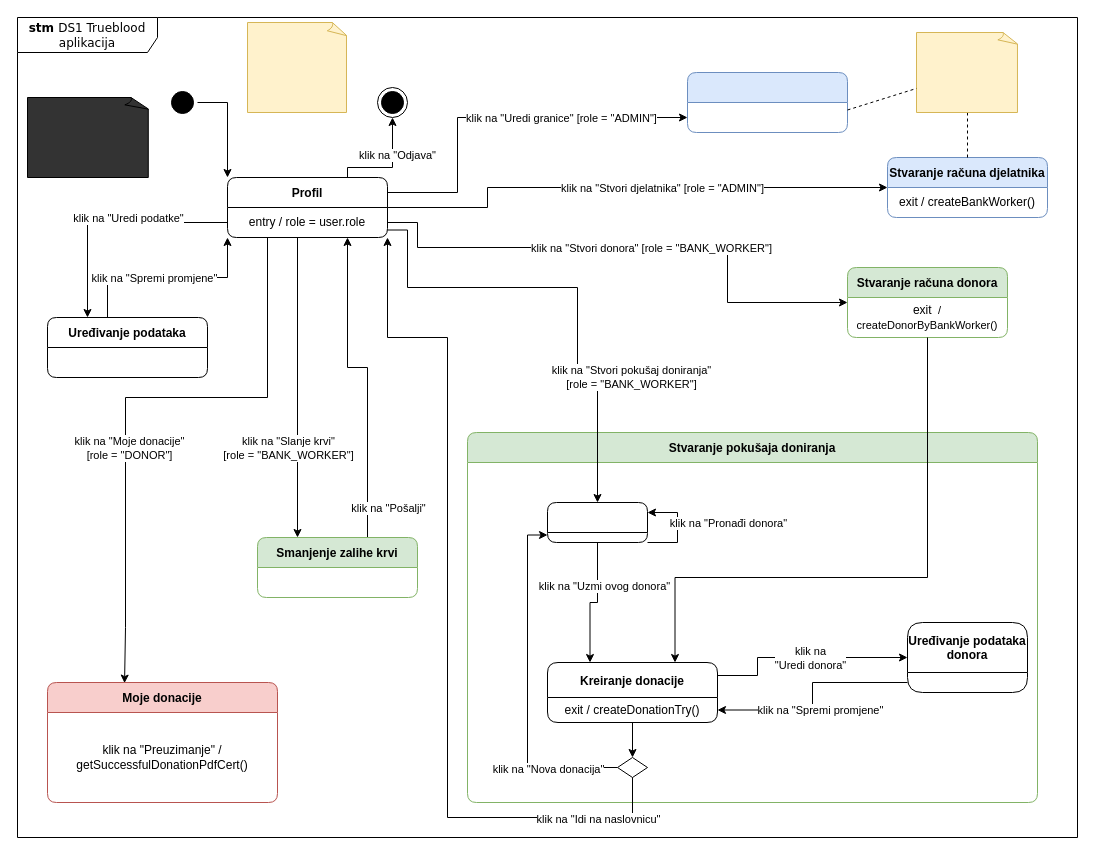
The diagram is 1095 pixels wide and 855 high, and some of its shapes have lost their labels. Each missing label, with the centre of its shape:
boje stanja: administrator djelatnik banke donor svi: [88,137]
gumbi "Profil", "Odjava", "FAQ" i "Kontakt" dotupni su iz svakog stanja: [297,67]
izlaskom iz ovih stanja vraćamo se u Profil: [967,72]
Odabir donora: [597,522]
Podešavanje granica: [767,102]
